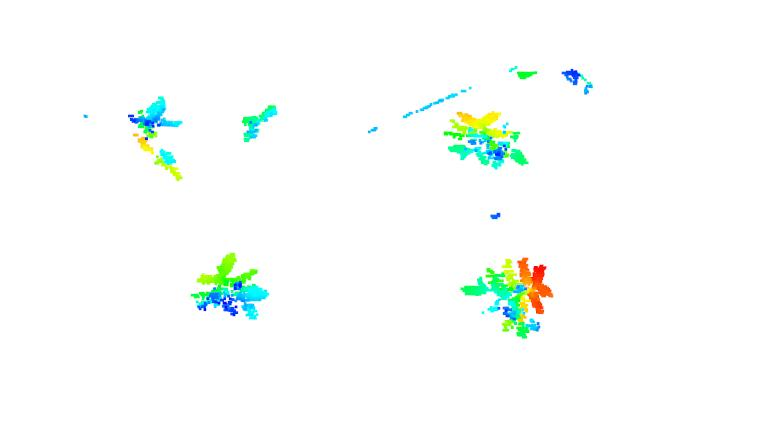chickpea: (460, 255, 556, 336), (444, 107, 529, 170), (125, 96, 188, 181), (193, 253, 270, 321), (234, 102, 278, 144)
